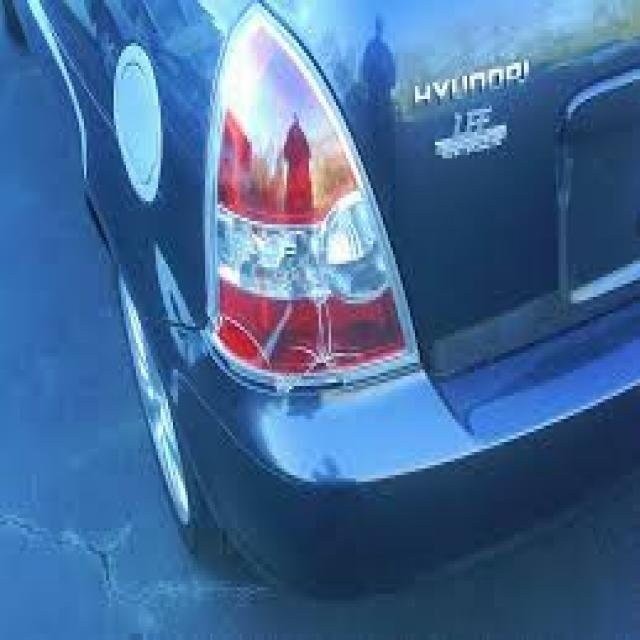damaged-tail-light: (208, 1, 424, 388)
